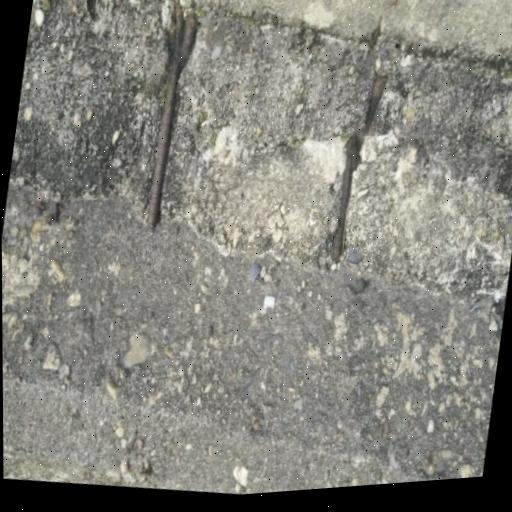exposed_rebar: (147, 0, 197, 230), (331, 75, 387, 260)
spalling: (10, 0, 512, 294)
